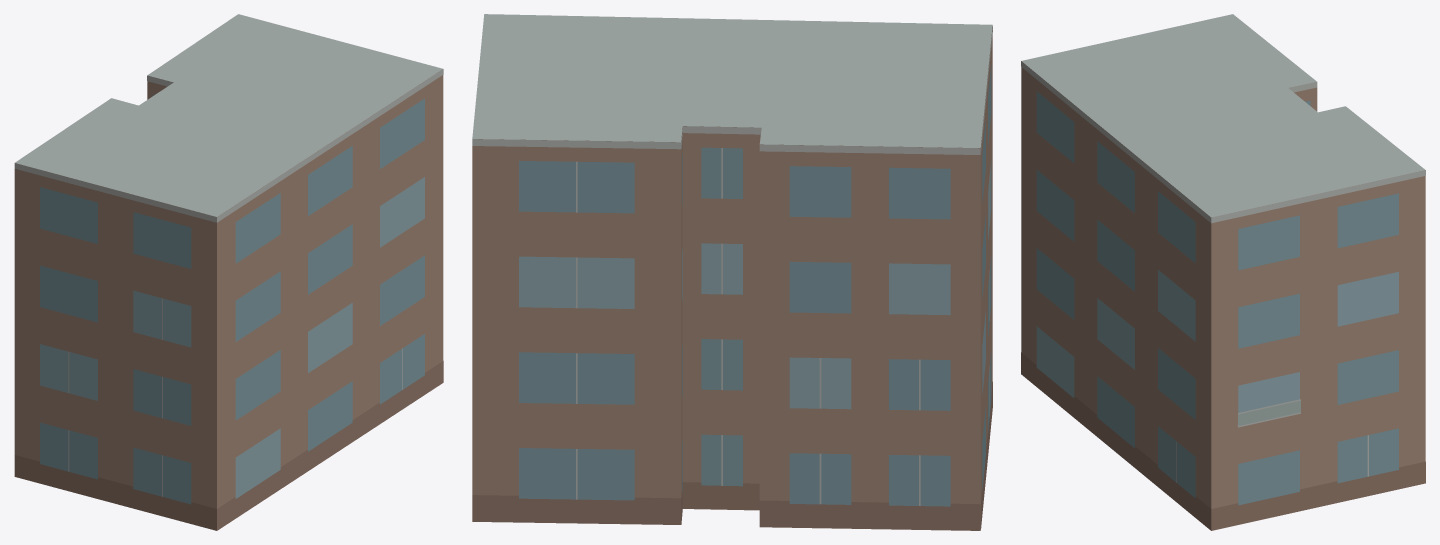
Rendered from survey-upis-32827774.glb.
3 renders of one model, left to right at view 1: azimuth 30°, elevation 25°; view 2: azimuth 150°, elevation 25°; view 3: azimuth 270°, elevation 25°, orthographic. The views are drawn at different scales.
Visible parts, largest first — view 1: survey-upis-32827774.tmp; view 2: survey-upis-32827774.tmp; view 3: survey-upis-32827774.tmp.
Boxes of the visible parts, <box> form: survey-upis-32827774.tmp: <box>14,14,443,530</box>; survey-upis-32827774.tmp: <box>472,14,992,530</box>; survey-upis-32827774.tmp: <box>1021,14,1425,530</box>.
Bounding box in the file's own units: 18.56 × 13.31 × 15.59.
